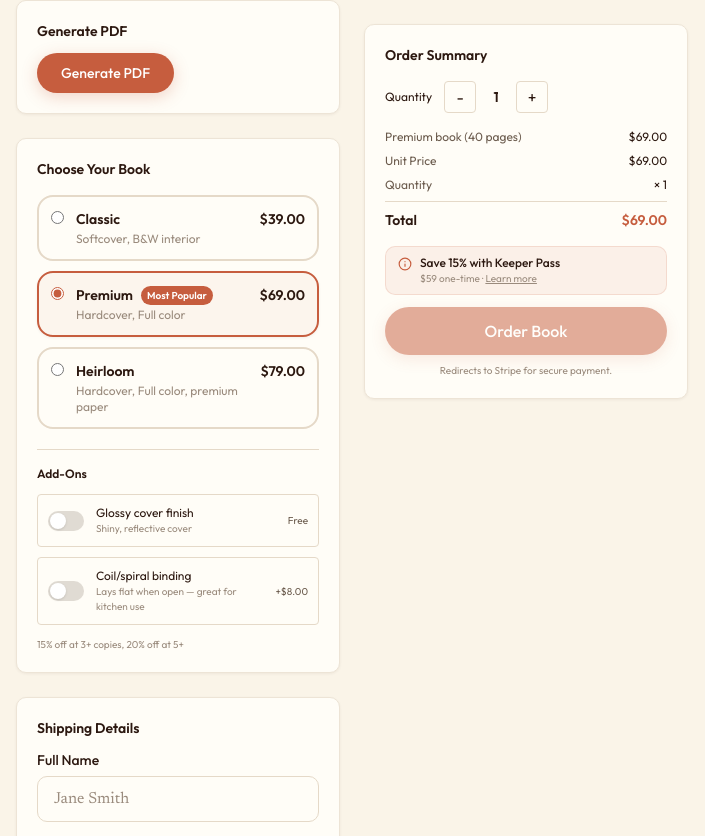
Test case: OrderPanel › shows Color interior add-on only when Classic tier is selected
Expected: the text "Color interior" is not shown
Note: Switch to Classic
Click the radio button labelled "Classic Softcover, B&W interior $39.00" at point(58, 218), box [51,211,64,224]
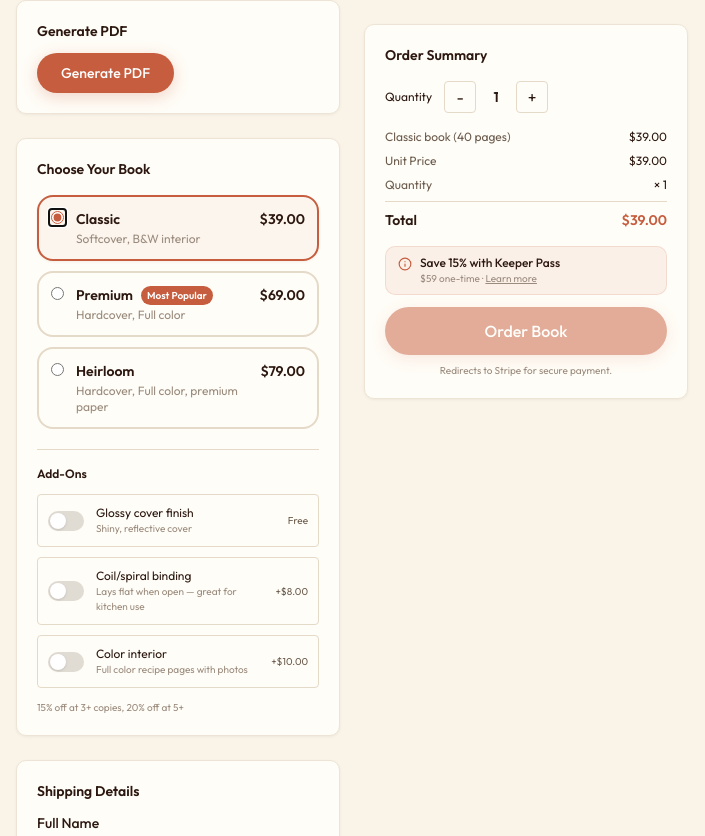
Result: the text "Color interior" is shown at [96,646,167,662]
